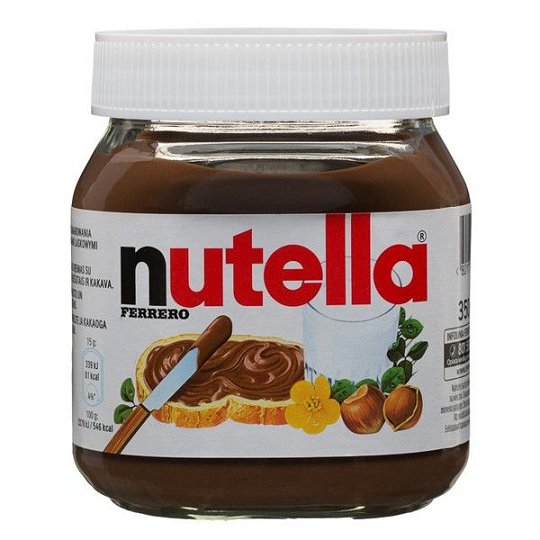nutella: (70, 28, 472, 520)
